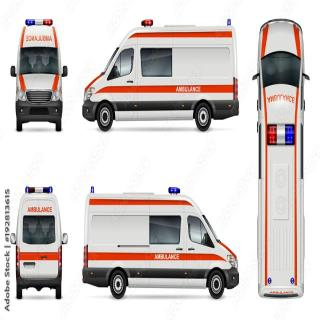Ambulance: (79, 16, 248, 160)
